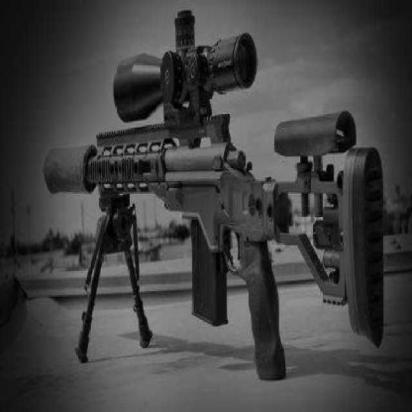Gun: (31, 25, 397, 363)
